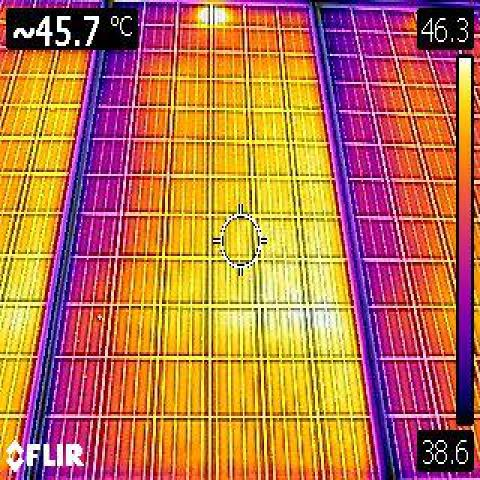fault: (212, 275, 351, 352), (196, 6, 228, 27)
